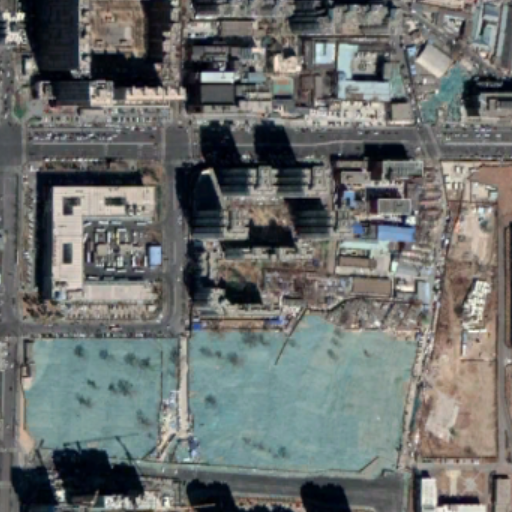cw: (188, 310, 419, 476), (17, 337, 178, 456)
